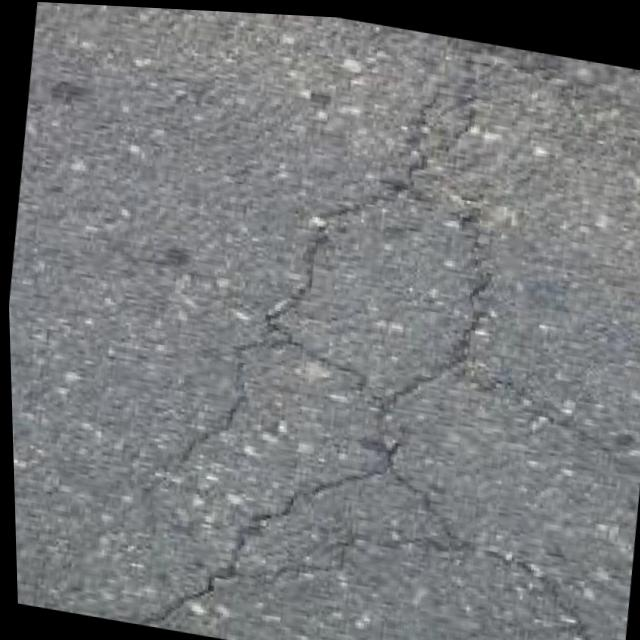Crack: (167, 39, 585, 640)
